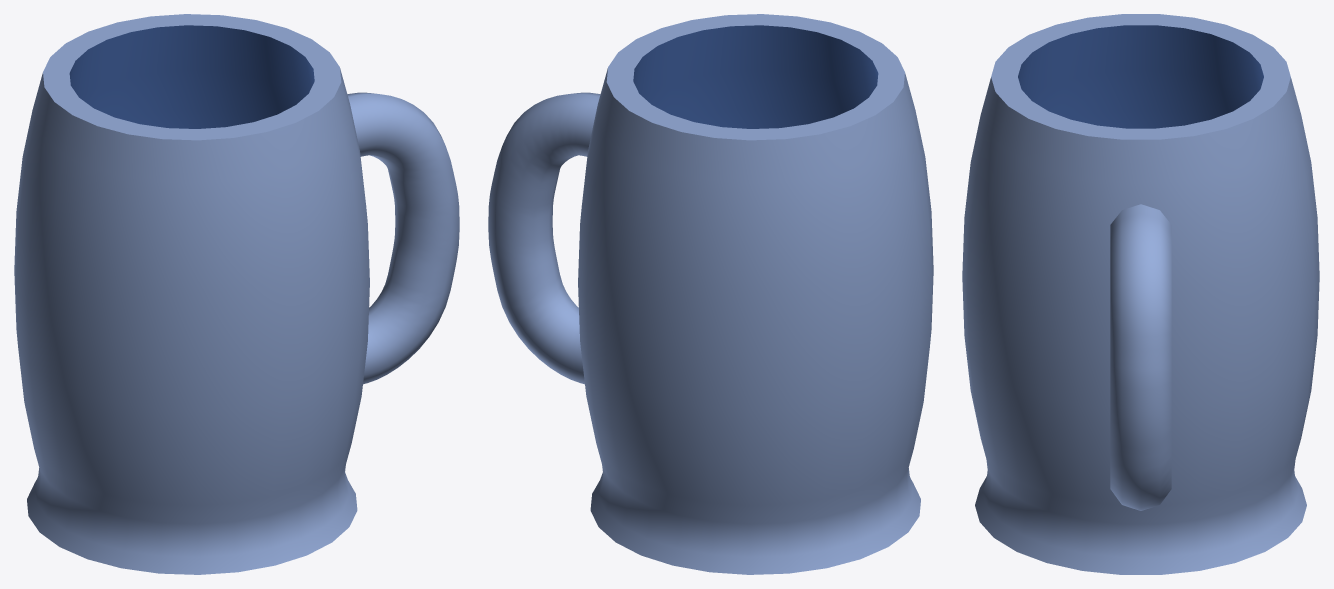
The model's file is Beer Cup A.fbx.
3 renders of one model, left to right at view 1: azimuth 30°, elevation 25°; view 2: azimuth 150°, elevation 25°; view 3: azimuth 270°, elevation 25°, orthographic.
Parts seen in each view (by area): view 1: Beer Cup A; view 2: Beer Cup A; view 3: Beer Cup A.
Part boxes in pixels (left/top/right/bottom): Beer Cup A: left=14, top=14, right=459, bottom=574; Beer Cup A: left=488, top=14, right=933, bottom=574; Beer Cup A: left=962, top=14, right=1319, bottom=574.
Bounding box in the file's own units: 0.4195 × 0.4114 × 0.3111.
